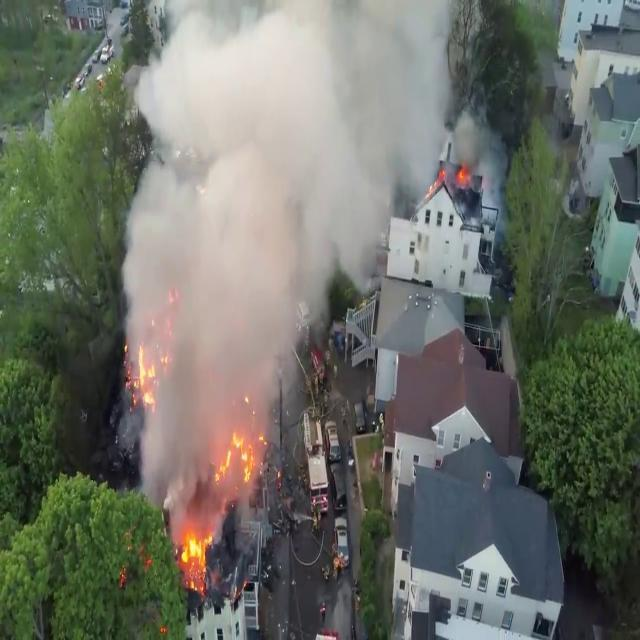Fire: (216, 424, 264, 490), (130, 341, 160, 412), (179, 523, 213, 585)
Smoke: (116, 0, 494, 522)
